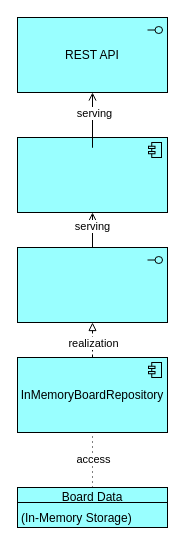
The diagram is 185 pixels wide and 545 high, and some of its shapes have lost their labels. The shapes that lost their labels are listed below. From the top down, each one's box as (x1, y1, x2, y2) in pixels, then its label:
(16, 136, 168, 212): Board Application Service
(16, 246, 168, 322): BoardRepository
